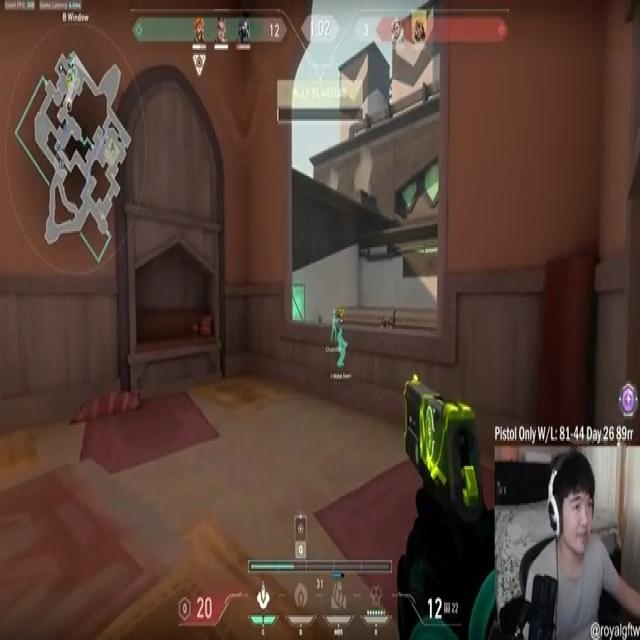ally behind wall: (336, 328, 348, 370), (329, 311, 340, 343)
